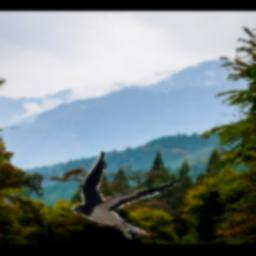Swallow: (71, 149, 181, 239)
